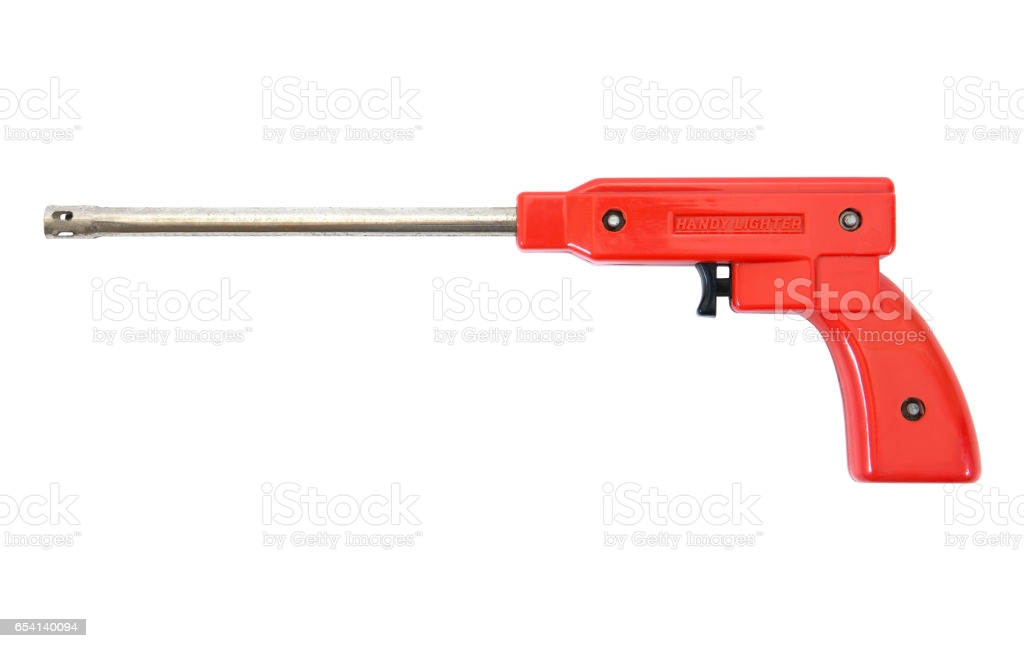Arma Falsa: (33, 174, 987, 493)
